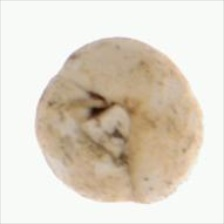L3: (75, 87, 129, 168)
L4: (35, 38, 205, 204)
